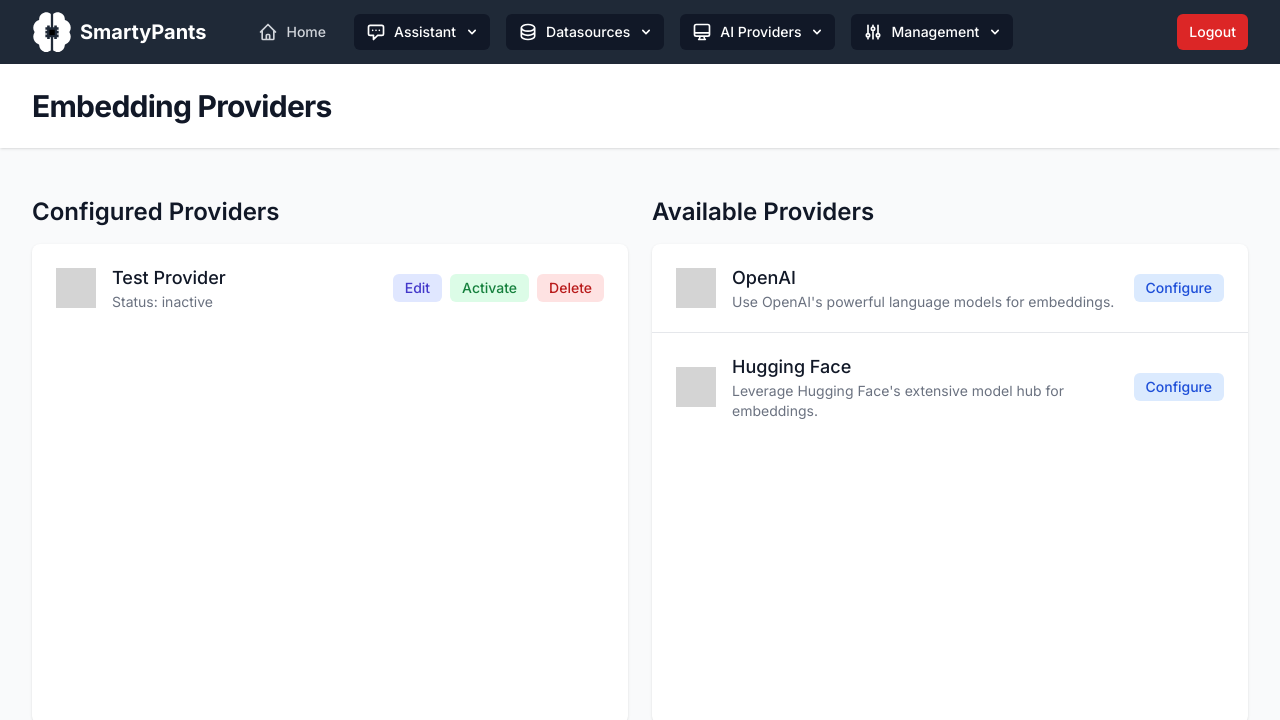
Scenario: EmbeddingProvidersPage › handles activate provider
This screenshot has width=1280, height=720.
Check: the heading "Test Provider" is shown, box [112,264,226,292]
Step 1. Click the button "Activate" → (490, 288), box [450,274,529,302]
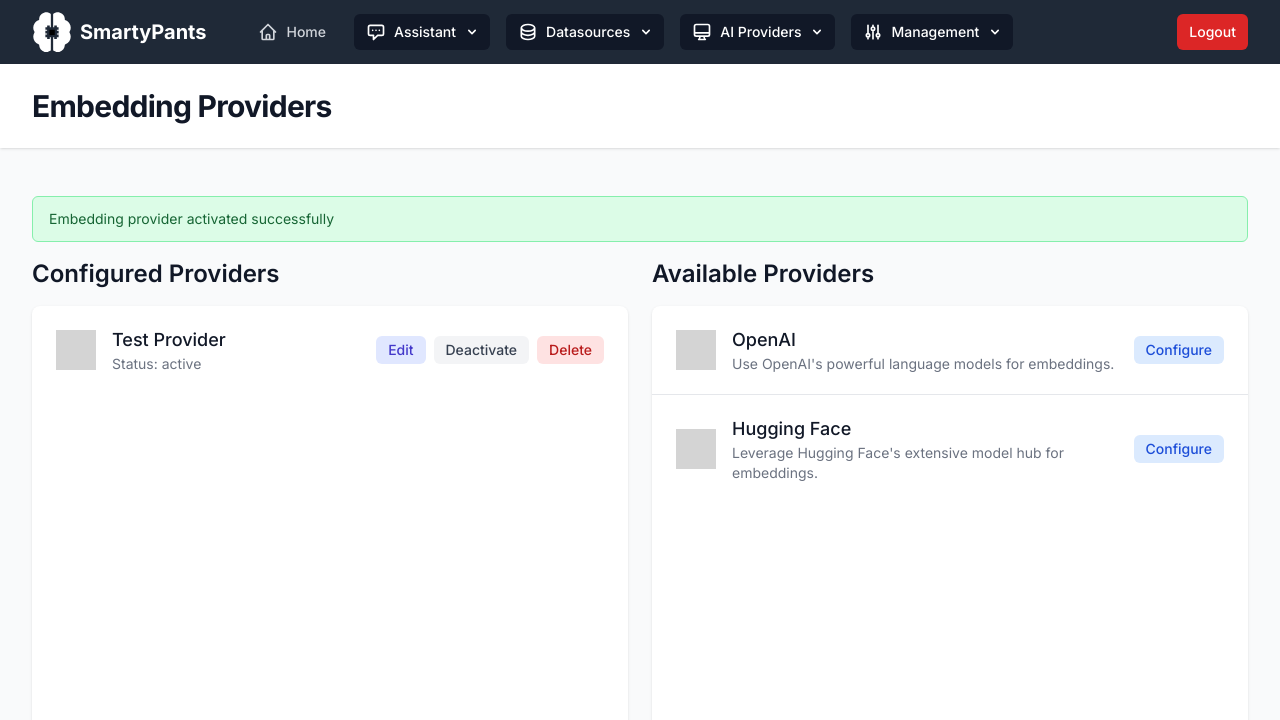
Check: the text "Embedding provider activated successfully" is shown, box [49,210,334,227]
